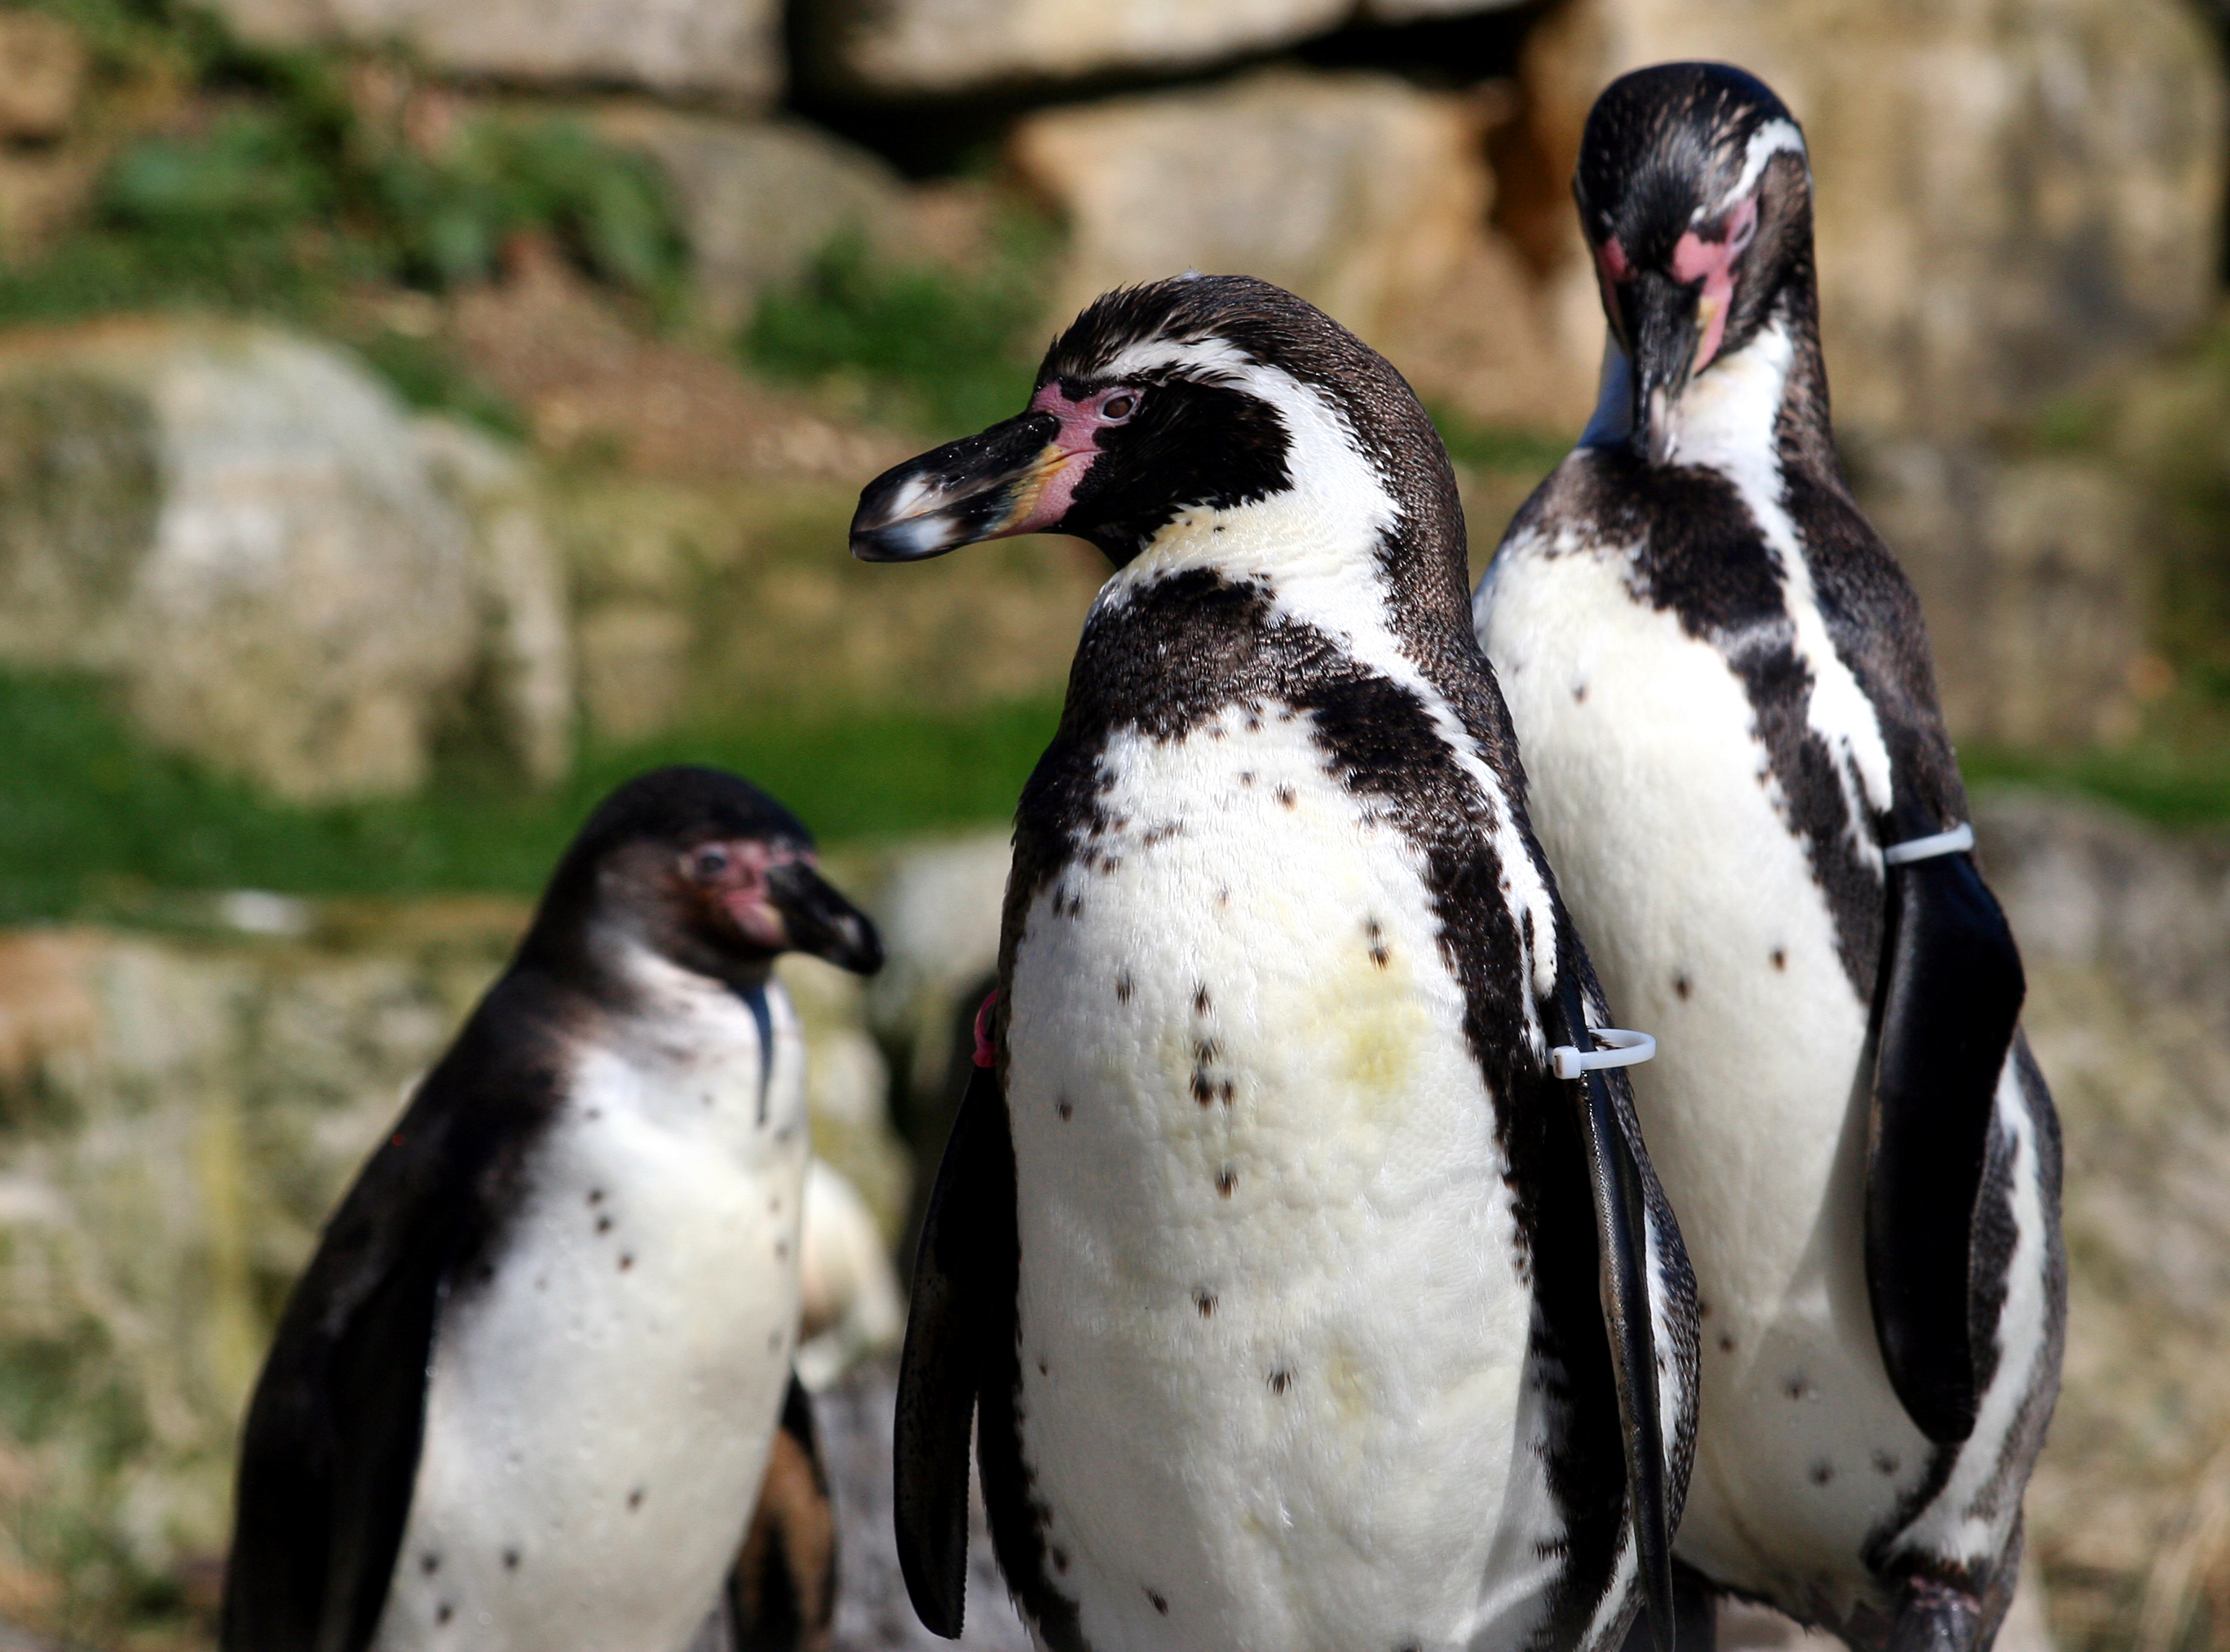penguin: (862, 279, 1694, 1652), (1491, 68, 2077, 1652), (252, 751, 887, 1652)
